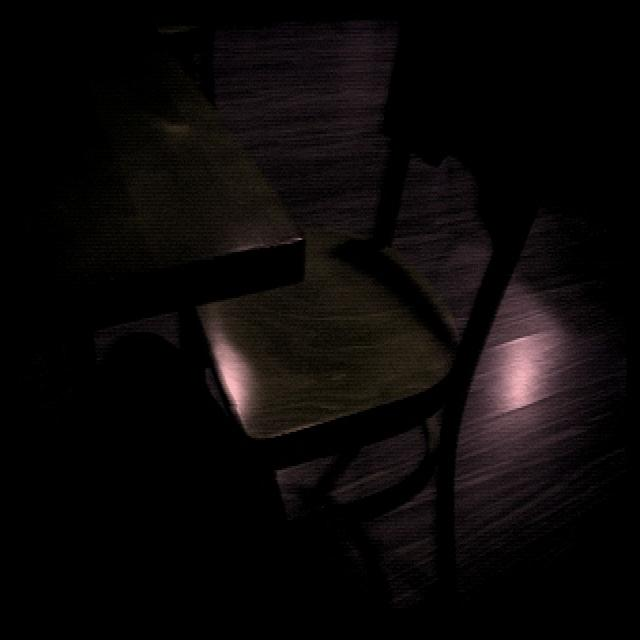Table: (0, 4, 282, 522)
chair: (246, 20, 580, 617)
